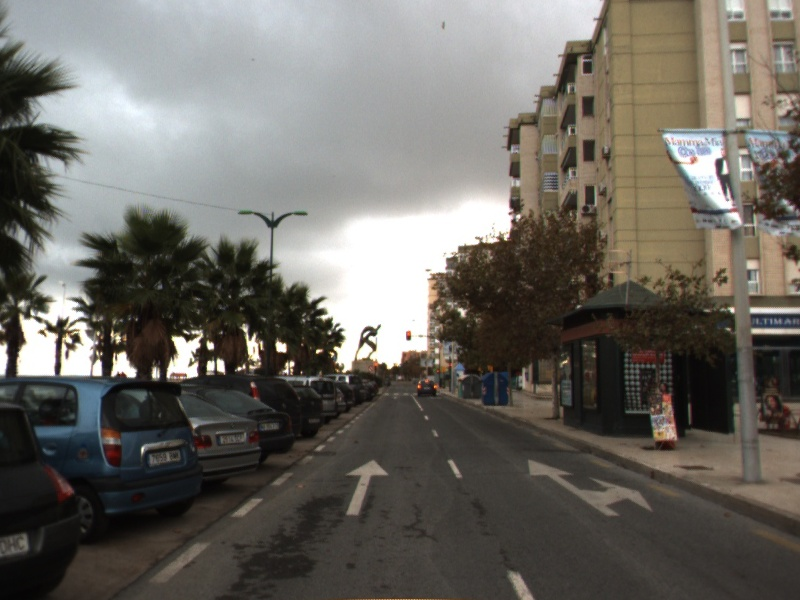STRAIGHT: (344, 458, 391, 517)
STRAIGHT_RIGHT: (526, 457, 655, 518)
